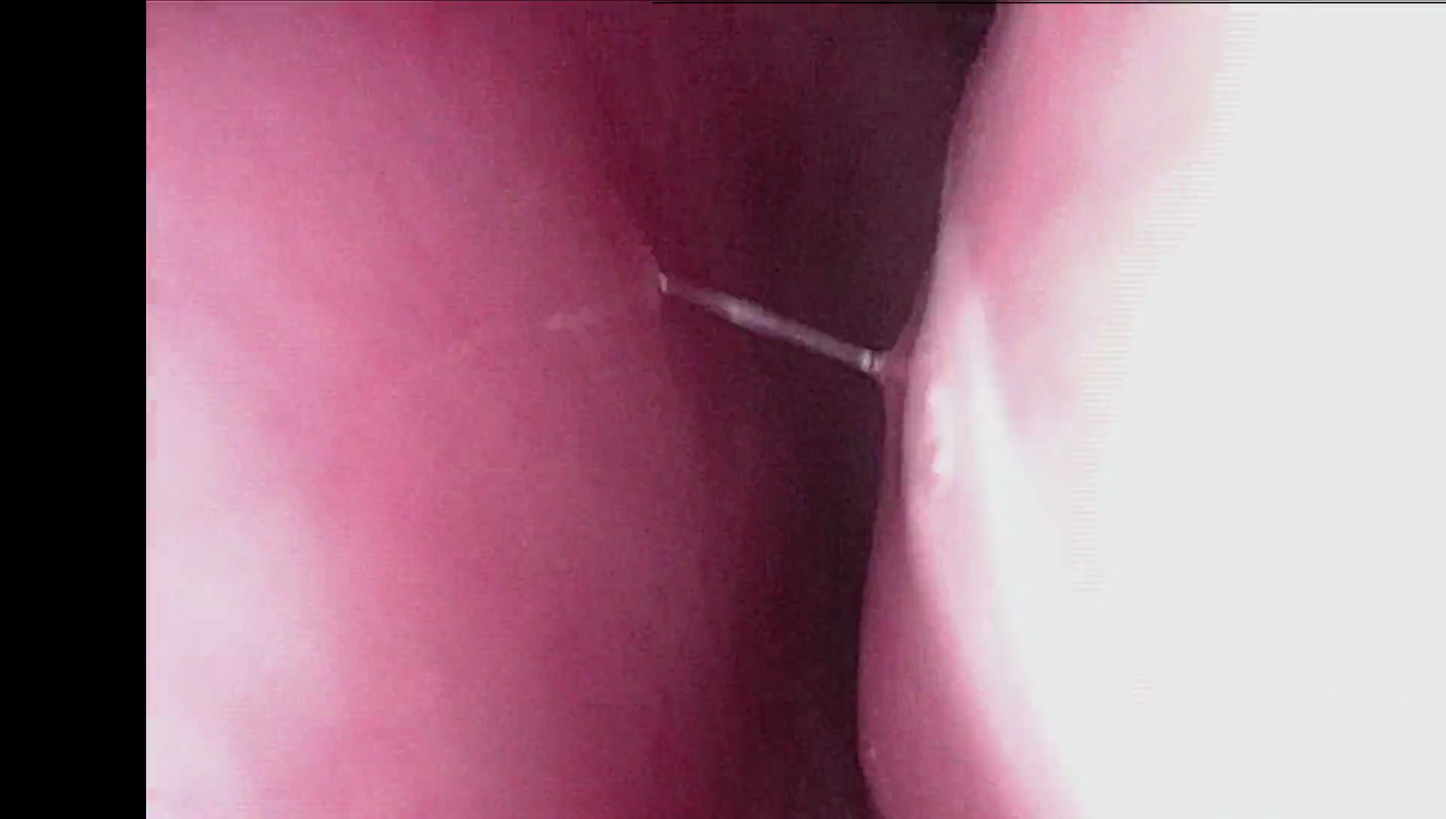close_wall: (1017, 8, 1446, 819), (152, 172, 490, 819)
next: (739, 480, 920, 791)
